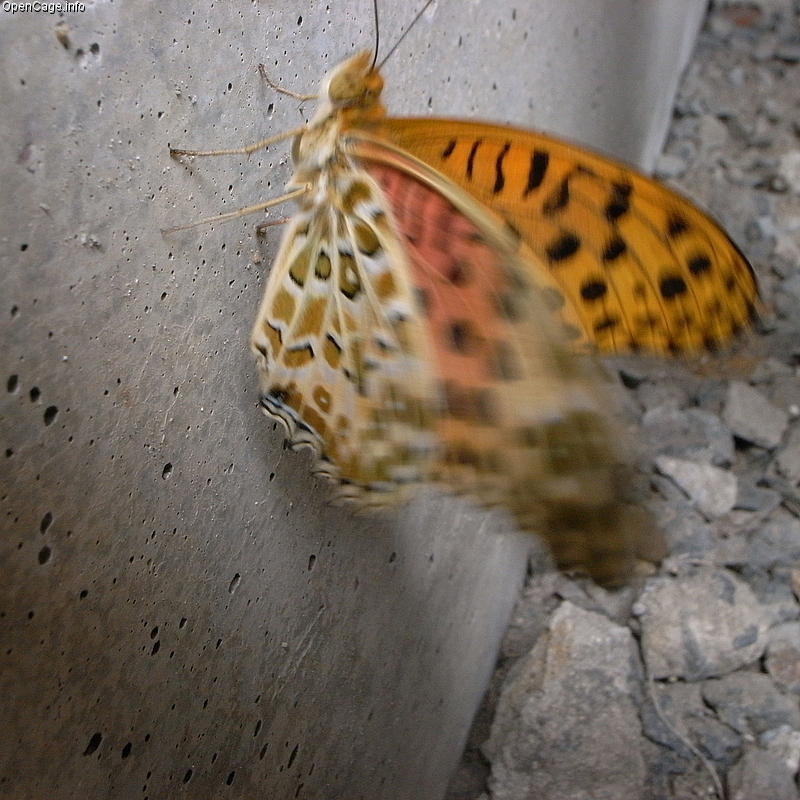Argyreus hyperbius: (151, 1, 776, 588)
butterfly: (153, 2, 778, 590)
